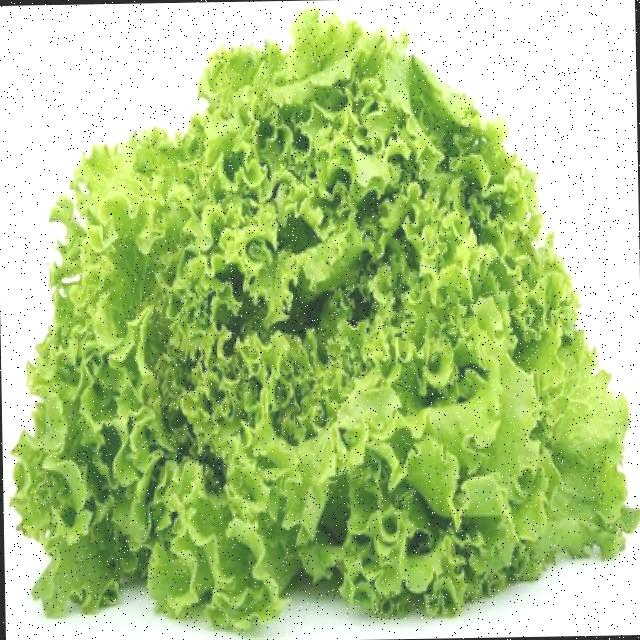healthy: (8, 18, 637, 618)
